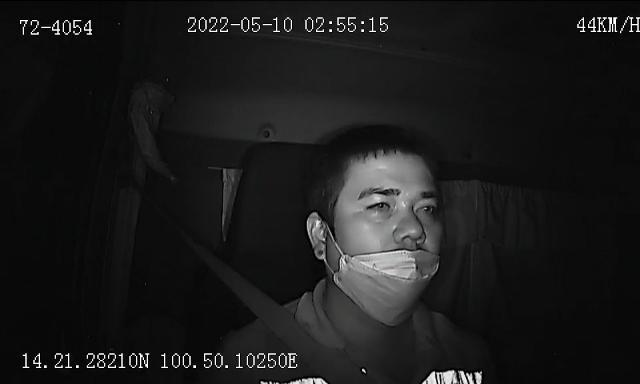SafeDriving: (360, 194, 398, 217), (410, 193, 443, 218)
Seatbelt: (200, 250, 354, 384)
